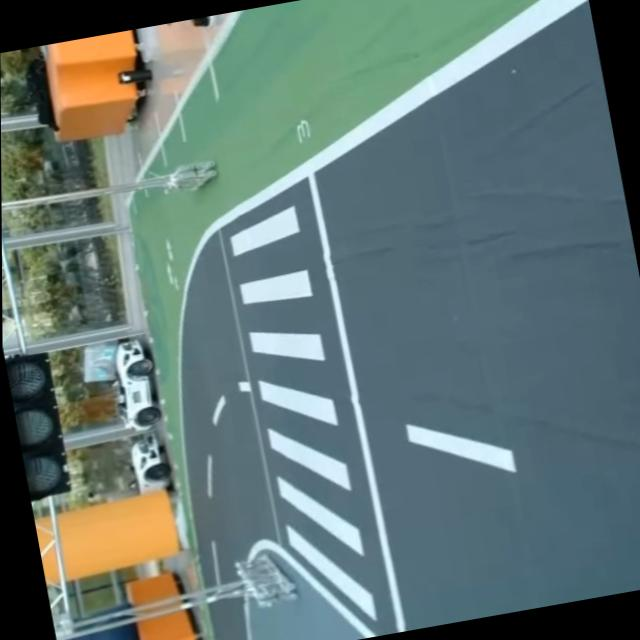traffic-light: (3, 342, 79, 510)
